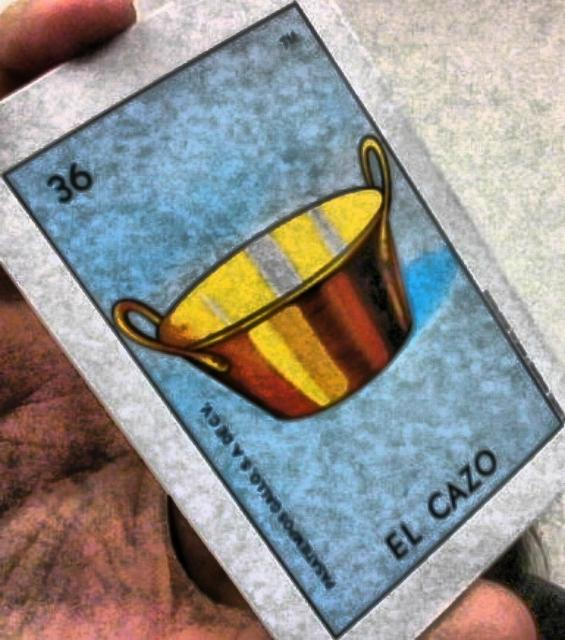El Cazo: (4, 7, 564, 637)
